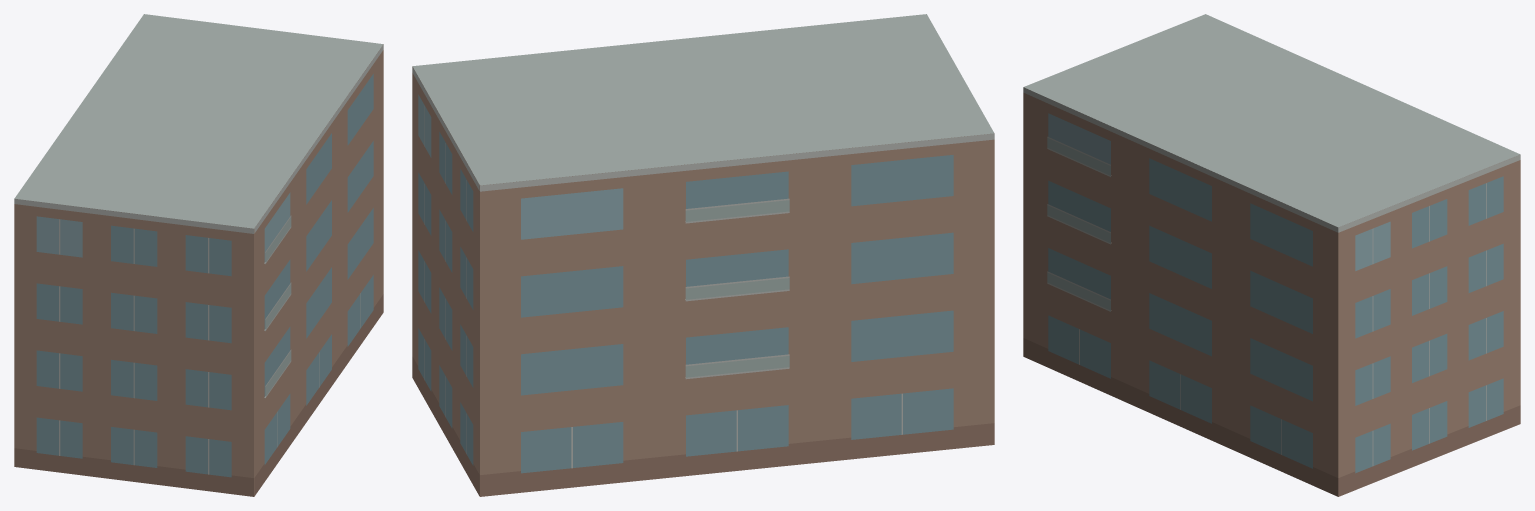
The model's file is residential-ce894f2b-0f25-4065-8a49-db4ae7d082bf.glb.
The picture shows the model from 3 angles, left to right: view 1: azimuth 30°, elevation 25°; view 2: azimuth 150°, elevation 25°; view 3: azimuth 270°, elevation 25°; orthographic projection. The views are drawn at different scales.
Parts seen in each view (by area): view 1: residential-ce894f2b-0f25-4065-8a49-db4ae7d082bf.tmp; view 2: residential-ce894f2b-0f25-4065-8a49-db4ae7d082bf.tmp; view 3: residential-ce894f2b-0f25-4065-8a49-db4ae7d082bf.tmp.
Boxes of the visible parts, box(x1,y1,x2,y2) form: residential-ce894f2b-0f25-4065-8a49-db4ae7d082bf.tmp: box(14, 14, 383, 496); residential-ce894f2b-0f25-4065-8a49-db4ae7d082bf.tmp: box(412, 14, 994, 496); residential-ce894f2b-0f25-4065-8a49-db4ae7d082bf.tmp: box(1023, 14, 1520, 496).
Bounding box in the file's own units: 20.73 × 12.2 × 20.41.
